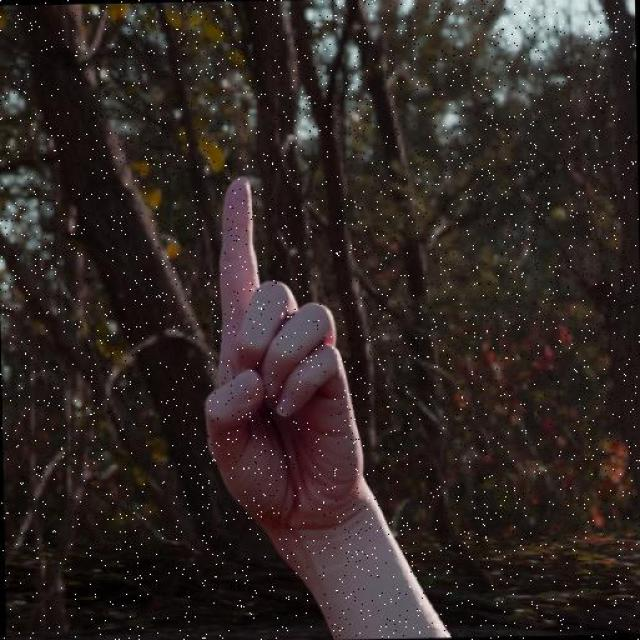D: (157, 141, 421, 568)
